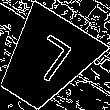L_SW: (17, 32, 74, 90)
